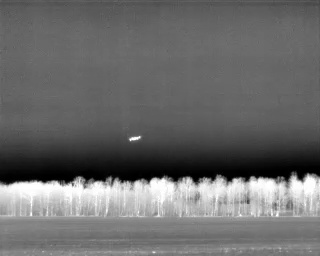DRONE: (125, 130, 146, 147)
